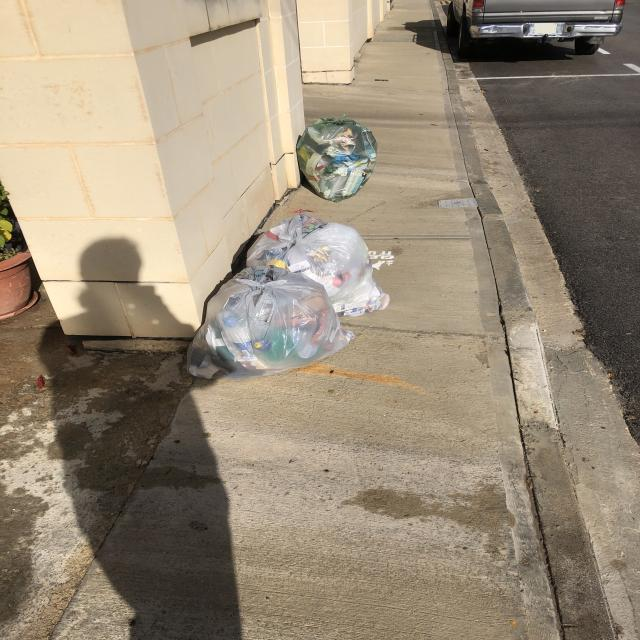Recycled Waste -Grey or Green Bag-: (186, 266, 355, 381), (247, 214, 392, 318), (298, 113, 382, 204)
